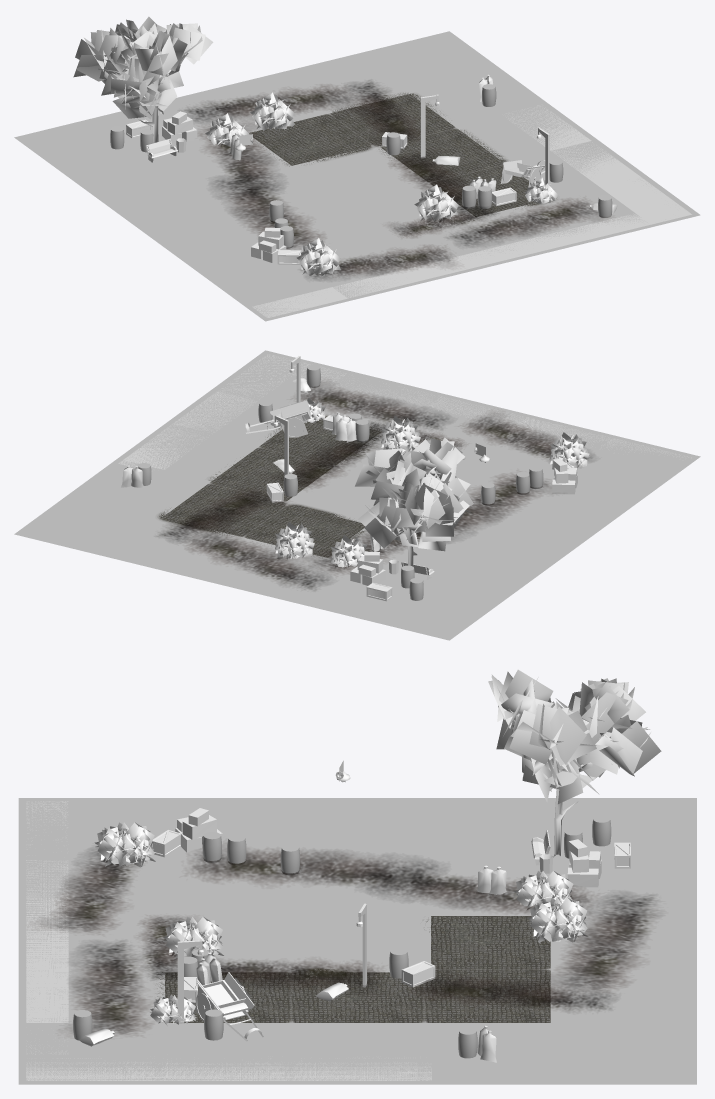
File: propsonly_brew5-single.gltf
3 views of the same model, one above another, from view 1: azimuth 30°, elevation 25°; view 2: azimuth 150°, elevation 25°; view 3: azimuth 270°, elevation 25° (orthographic). The views are drawn at different scales.
Parts seen in each view (by area): view 1: prop_tree.003, FeedbackBlocker.048, FeedbackBlocker.052, file_b12_ground.007, file_b2_ground1.106, file_b2_ground3.040, file_b2_ground1.104, file_b2_ground1.100, file_b2_ground1.109, file_b12_ground.003, file_b2_ground1.103, file_b2_ground1.110 (+32 smaller); view 2: prop_tree.003, file_b2_ground1.100, file_b2_ground1.109, file_b12_ground.007, file_b2_ground1.106, file_b2_ground1.104, file_b12_ground.005, file_b12_ground.003, file_b2_ground1.105, file_b2_ground1.103, file_b2_ground1.066, file_b2_ground1.113 (+30 smaller); view 3: prop_tree.003, file_b2_ground1.100, file_b2_ground1.098, file_b2_ground1.103, file_b2_ground1.106, file_b2_ground1.113, file_b2_ground1.105, file_b12_ground.006, file_b2_ground1.104, file_b2_ground1.109, file_b12_ground.007, file_b2_ground1.069 (+34 smaller).
Boxes of the visible parts, x1,y1,x2,y2 form: prop_tree.003: (73, 16, 213, 143); FeedbackBlocker.048: (252, 213, 652, 317); FeedbackBlocker.052: (506, 105, 691, 224); file_b12_ground.007: (359, 31, 502, 93); file_b2_ground1.106: (273, 52, 417, 112); file_b2_ground3.040: (284, 146, 430, 203); file_b2_ground1.104: (411, 67, 550, 129); file_b2_ground1.100: (113, 189, 247, 248); file_b2_ground1.109: (63, 153, 197, 209); file_b12_ground.003: (14, 114, 147, 173); file_b2_ground1.103: (455, 103, 596, 162); file_b2_ground1.110: (156, 137, 291, 192); prop_tree.003: (355, 437, 473, 566); file_b2_ground1.100: (457, 506, 601, 568); file_b2_ground1.109: (414, 542, 550, 602); file_b12_ground.007: (14, 498, 155, 557); file_b2_ground1.106: (108, 519, 247, 577); file_b2_ground1.104: (63, 458, 210, 520); file_b12_ground.005: (577, 434, 700, 496); file_b12_ground.003: (364, 581, 503, 640); file_b2_ground1.105: (187, 538, 330, 598); file_b2_ground1.103: (113, 422, 258, 481); file_b2_ground1.066: (400, 392, 529, 449); file_b2_ground1.113: (162, 386, 289, 448); prop_tree.003: (488, 669, 661, 857); file_b2_ground1.100: (284, 798, 430, 859); file_b2_ground1.098: (284, 854, 430, 915); file_b2_ground1.103: (284, 1023, 430, 1084); file_b2_ground1.106: (550, 966, 696, 1028); file_b2_ground1.113: (151, 1023, 297, 1084); file_b2_ground1.105: (550, 910, 696, 972); file_b12_ground.006: (18, 1023, 164, 1084); file_b2_ground1.104: (417, 1023, 563, 1084); file_b2_ground1.109: (417, 798, 563, 859); file_b12_ground.007: (559, 1028, 696, 1084); file_b2_ground1.069: (18, 854, 164, 915).
Size of what is drawn, in the model's own units: 5.1 by 1.63 by 5.17.
